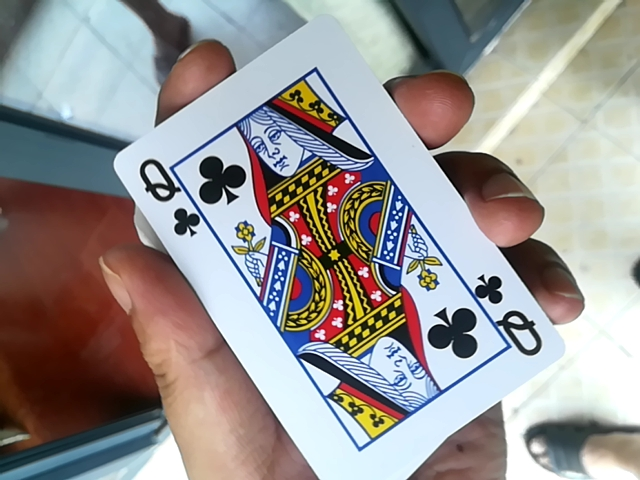mh q: (84, 4, 588, 479)
